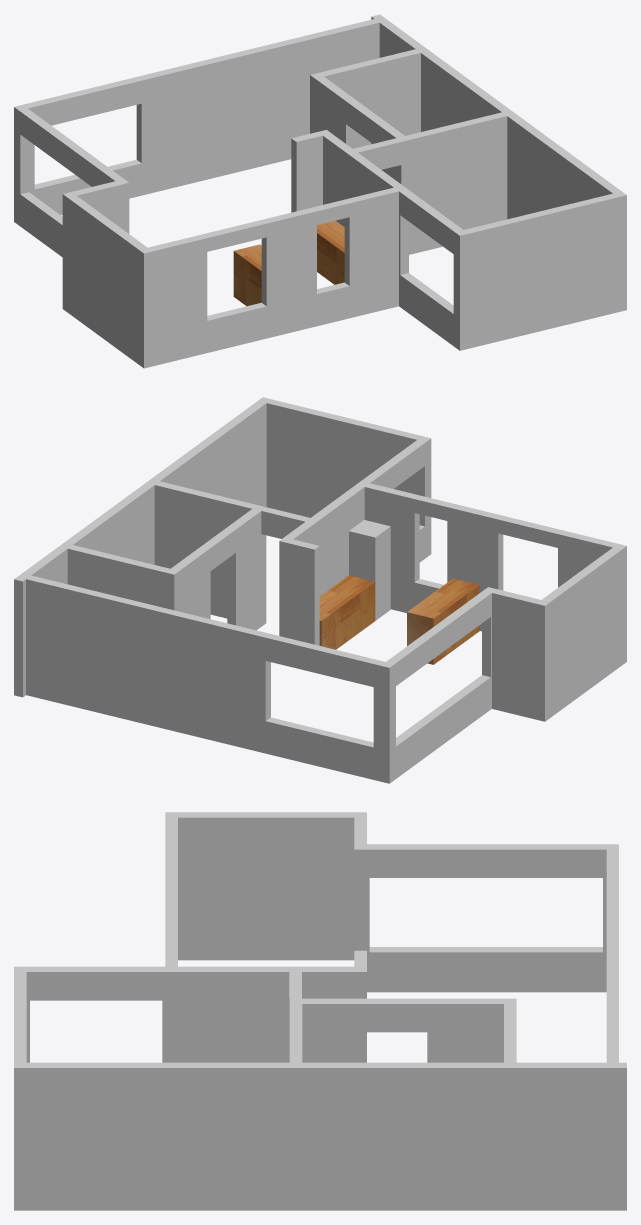
3 renders of one model, top to bottom at view 1: azimuth 30°, elevation 25°; view 2: azimuth 150°, elevation 25°; view 3: azimuth 270°, elevation 25°, orthographic. The views are drawn at different scales.
Visible parts, largest first — view 1: walls, barra, encimera; view 2: walls, encimera, frigo, barra; view 3: walls.
Part boxes in pixels (left/top/right/bottom): walls: left=14, top=14, right=626, bottom=368; barra: left=233, top=244, right=261, bottom=306; encimera: left=317, top=220, right=344, bottom=284; walls: left=14, top=397, right=626, bottom=783; encimera: left=319, top=575, right=375, bottom=649; frigo: left=349, top=520, right=390, bottom=620; barra: left=407, top=578, right=479, bottom=664; walls: left=14, top=812, right=626, bottom=1210.
Bounding box in the file's own units: 9.6 × 9.73 × 2.5.
